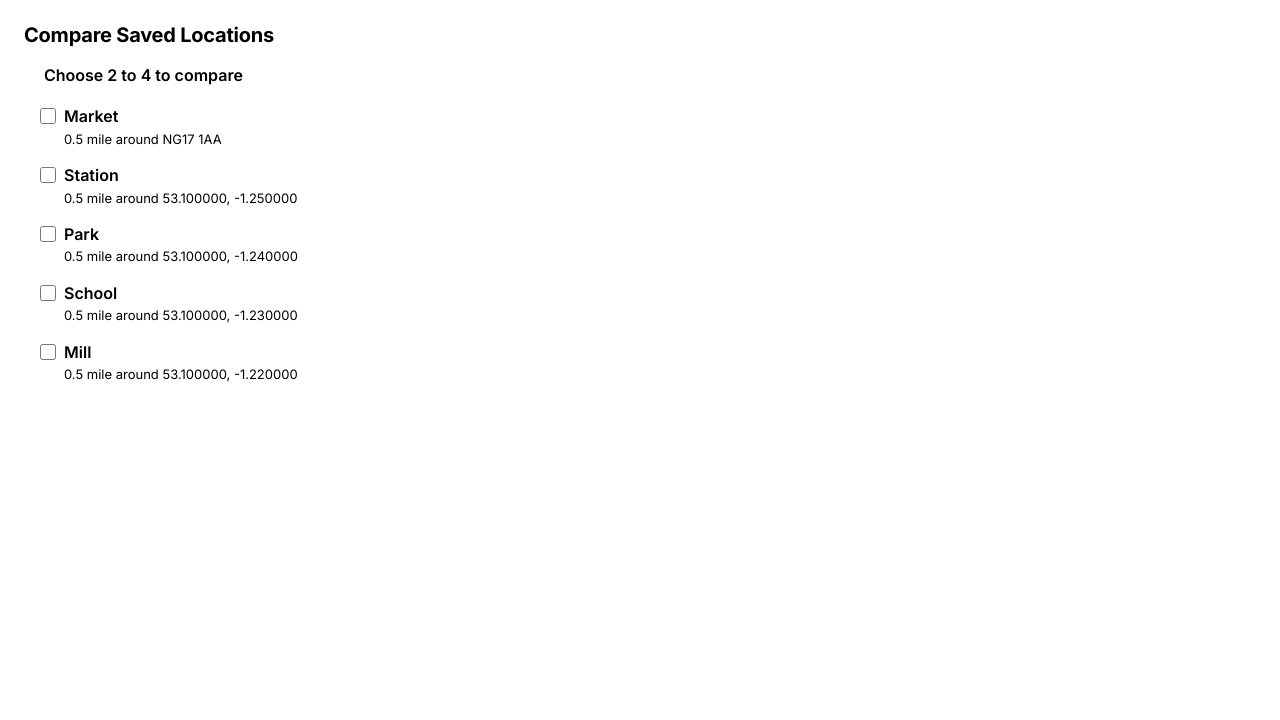
Test: ComparePanel › compares 2, then 3, then 4 Saved Locations side by side, and no more
Click the checkbox labelled "Market" at (48, 116), box [40, 108, 56, 124]
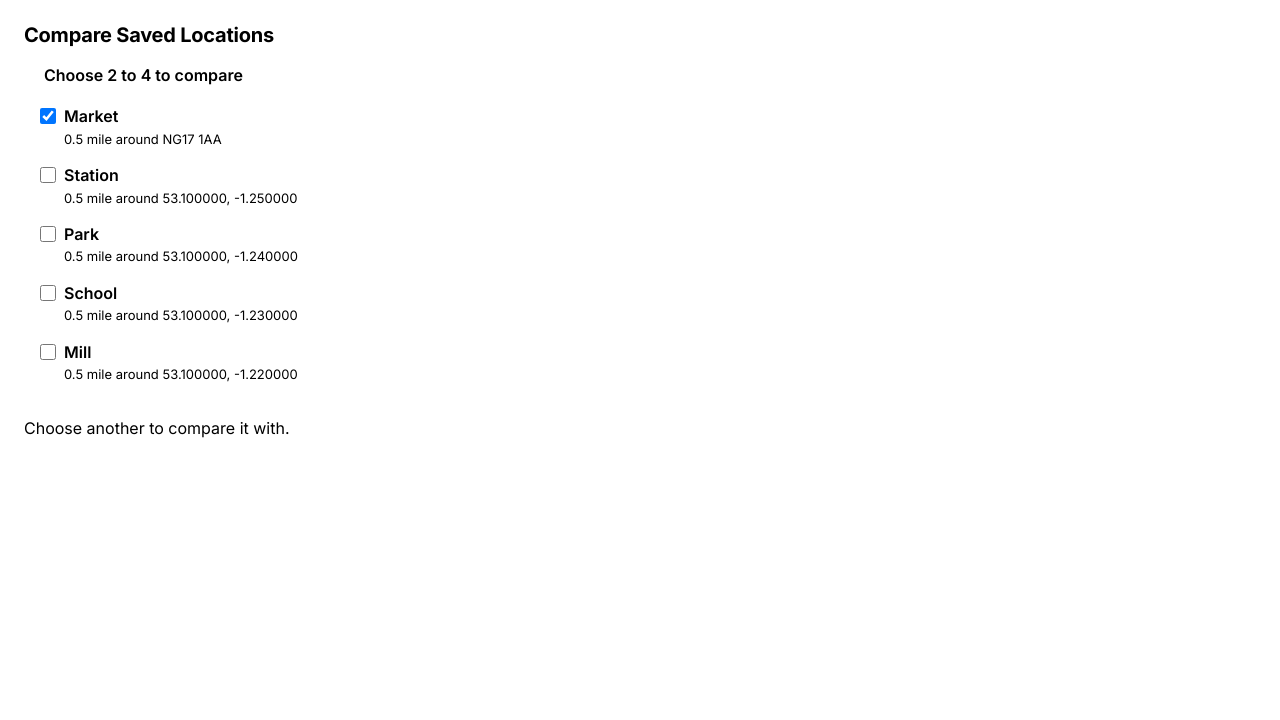
Now the message reads "Choose another to compare it with.", box [24, 418, 290, 438]
Click the checkbox labelled "Park" at (48, 234), box [40, 226, 56, 242]
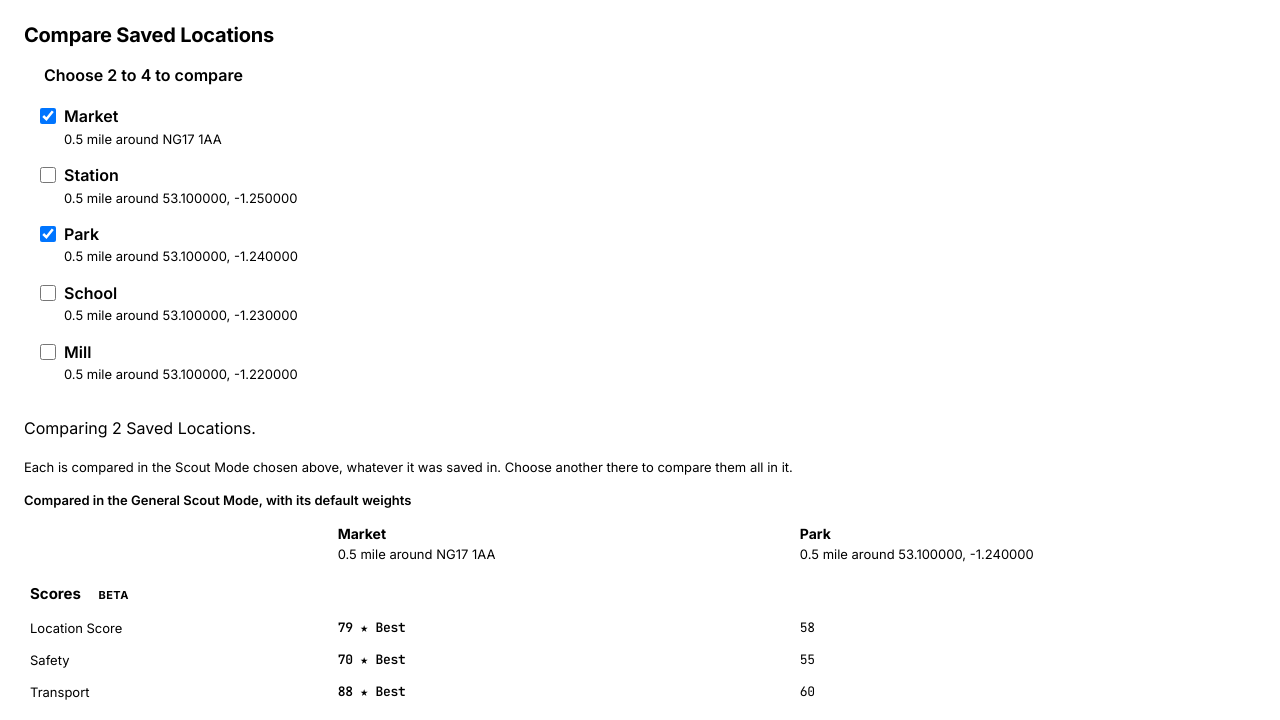
Now the message reads "Comparing 2 Saved Locations.", box [24, 418, 256, 438]
Click the checkbox labelled "Station" at (48, 175), box [40, 167, 56, 183]
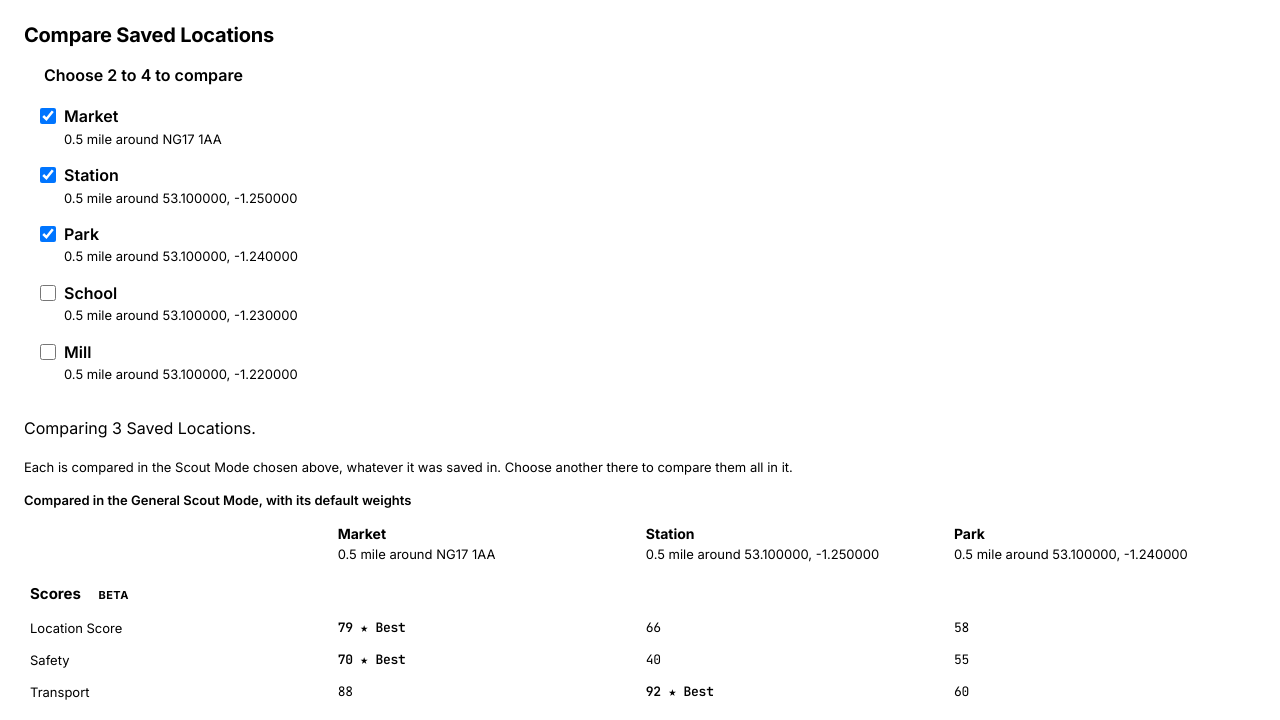
Click the checkbox labelled "School" at (48, 293), box [40, 285, 56, 301]
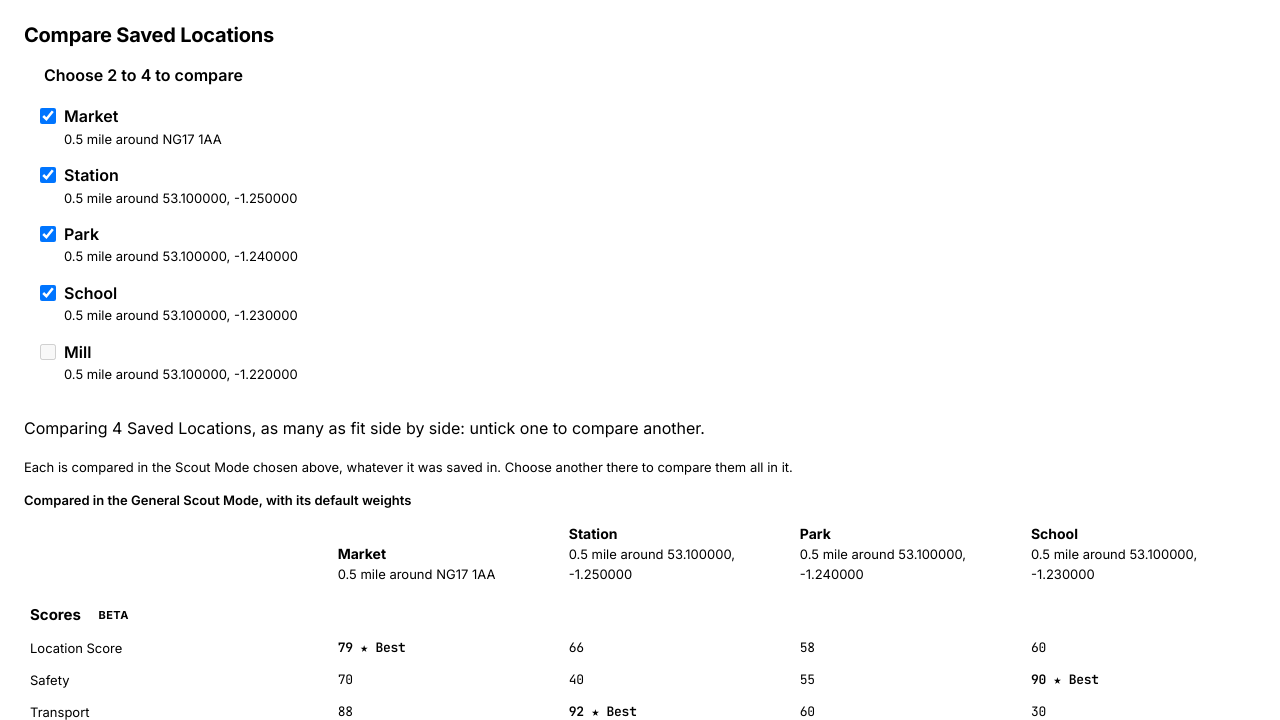
Now the message shows "Comparing 4 Saved Locations, as many as fit side by side: untick one to compare another.", box [24, 418, 705, 438]
Now the checkbox labelled "Mill" is disabled, box [40, 344, 56, 360]
Click the checkbox labelled "Market" at (48, 116), box [40, 108, 56, 124]
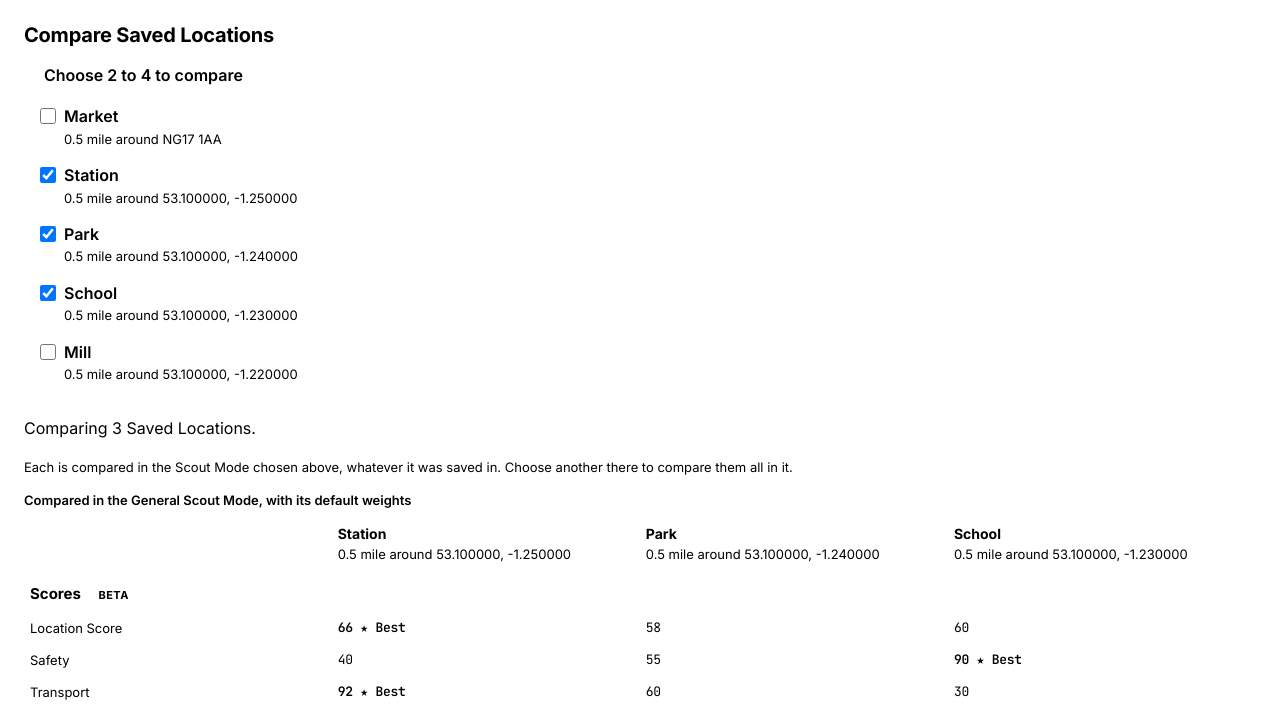
Now the checkbox labelled "Mill" is enabled, box [40, 344, 56, 360]
